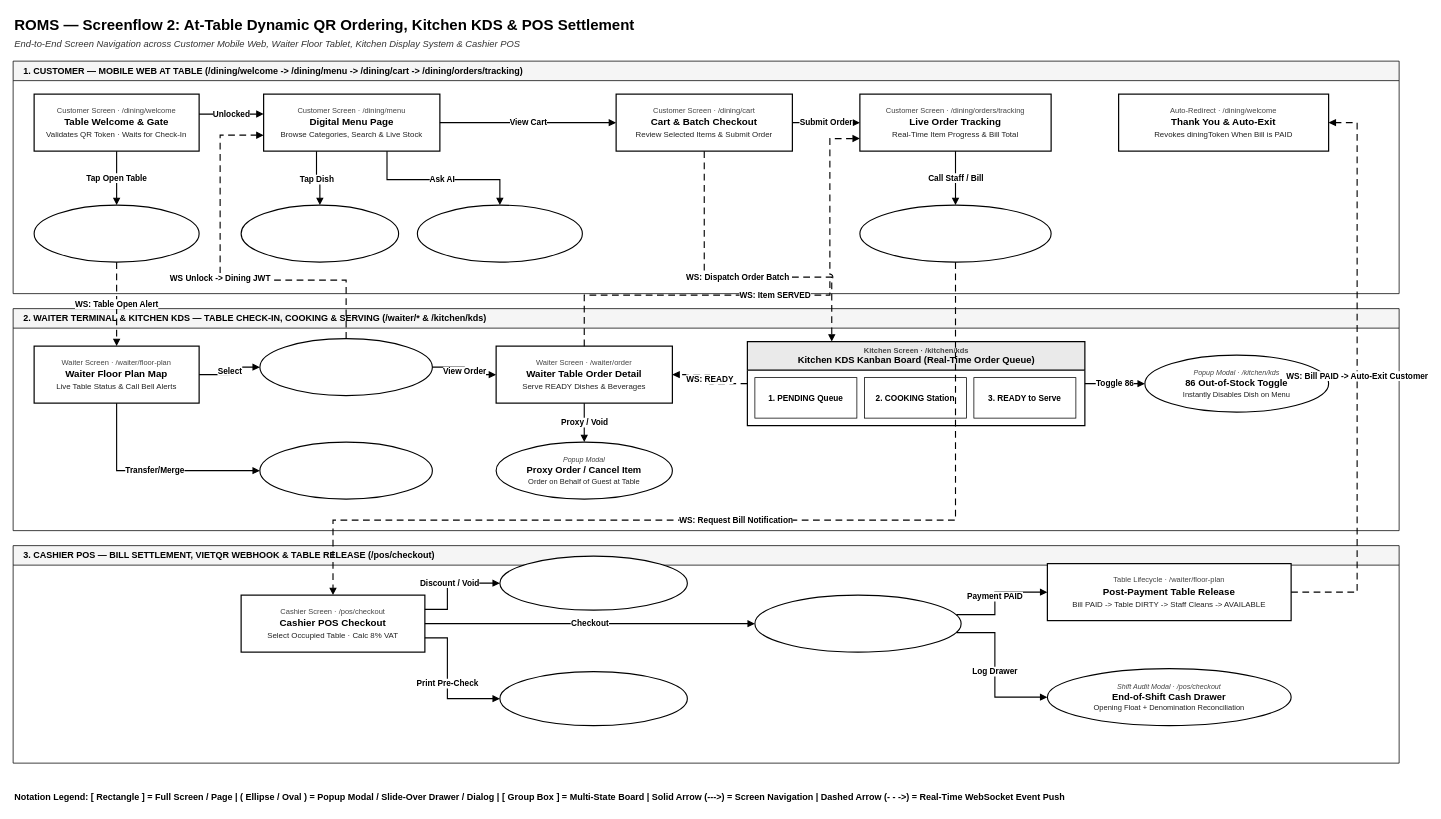
This 1441x819 diagram has some shape labels left out. The shapes that lost their labels are listed below. From the top down, each one's centre as x and y in pixels, then its label:
the point at 116,233: Action Dialog Request Table Open Rings Waiter Bell to Unlock Session
the point at 319,233: Popup Modal Dish Customization Select Quantity & Cooking Notes
the point at 499,233: Popup Modal AI Menu Assistant Grounded Recommendations & Add
the point at 955,233: Popup Modal Service Call Request Call Waiter, Napkins, Cutlery, Bill
the point at 346,367: Popup Modal Open Table (Grant Access) Creates DiningSession · Unlocks QR
the point at 346,470: Popup Modal Transfer / Merge Tables Reassigns Active Session & Orders
the point at 593,582: Security Guard Modal Manager PIN Override Required for Void or Discount >30%
the point at 857,623: Payment Dialog PayOS VietQR / Cash Modal Dynamic QR + HMAC Webhook Reconcile
the point at 593,698: Thermal Print Modal Pre-Check Pro-Forma Bill Print Review Slip Before Payment
